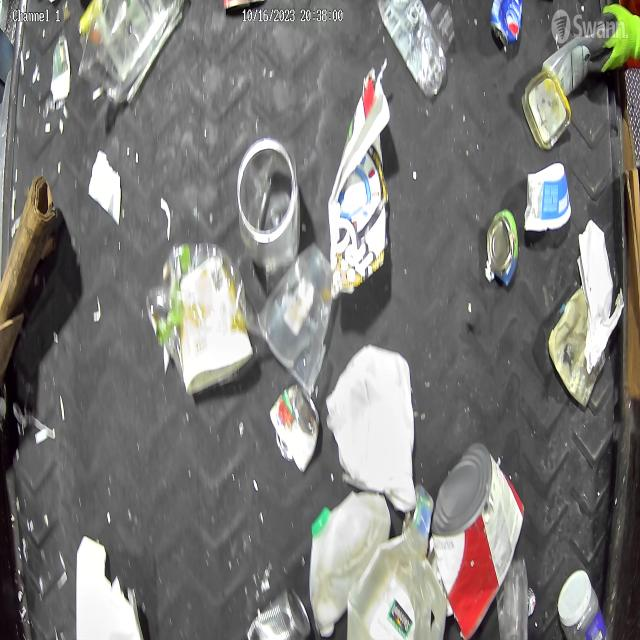can: (432, 442, 524, 640), (350, 522, 444, 640), (269, 379, 324, 484), (238, 575, 316, 640), (479, 209, 521, 300), (490, 0, 528, 56)
milk_jug: (326, 340, 420, 518), (308, 489, 390, 640)
plastic_bottle: (368, 0, 448, 102)
